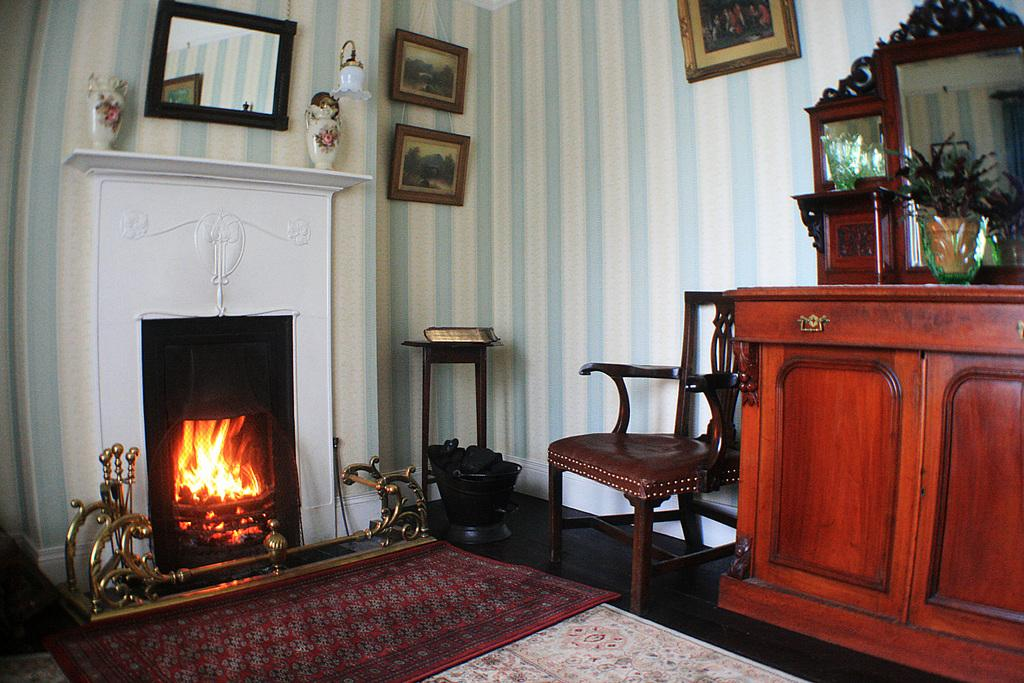Fire: (165, 411, 278, 535)
